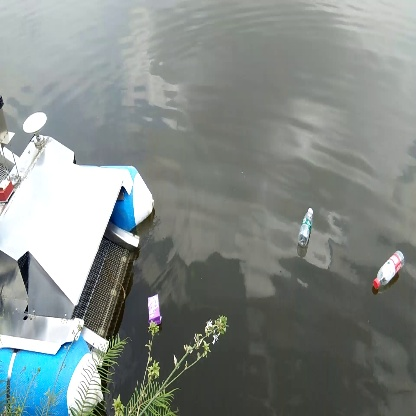bottle: (370, 248, 407, 295), (297, 208, 320, 246)
milk-box: (141, 291, 166, 328)
